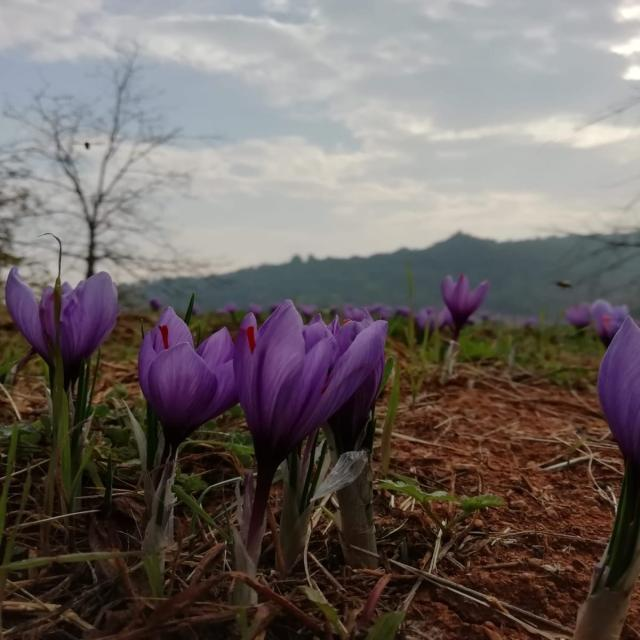saffron open: (233, 300, 387, 546), (139, 308, 238, 449), (61, 271, 118, 385), (598, 316, 640, 465), (6, 268, 56, 365)
